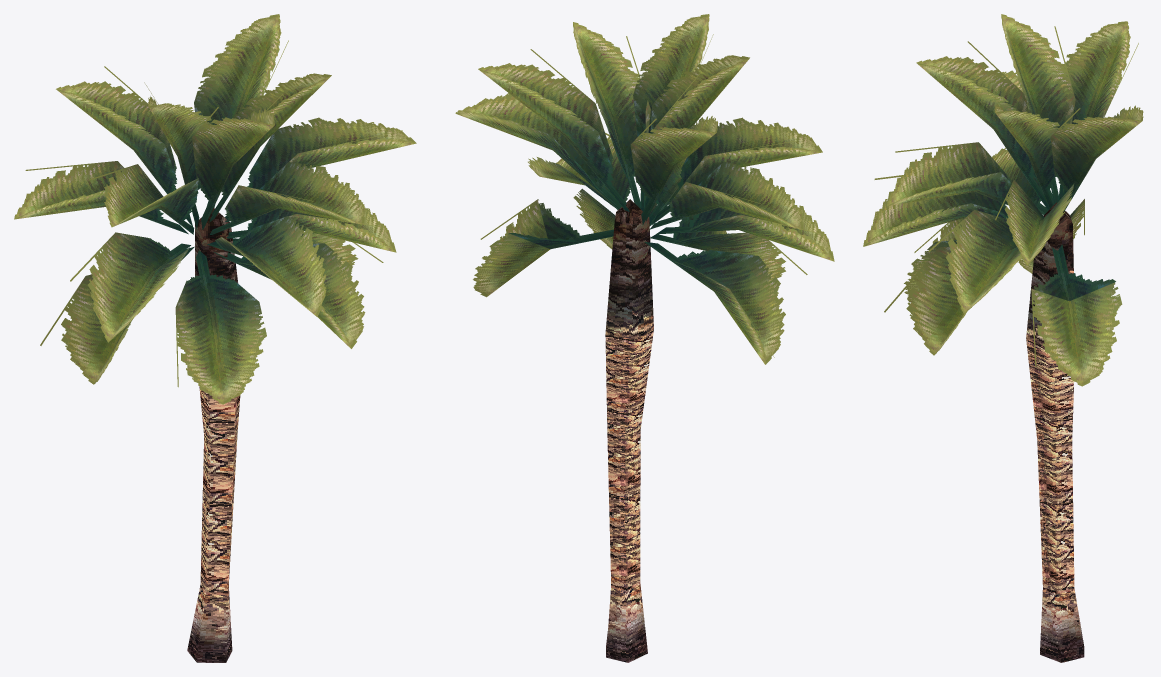
The model's file is stage-beac-p2-92.glb.
The picture shows the model from 3 angles, left to right: view 1: azimuth 30°, elevation 25°; view 2: azimuth 150°, elevation 25°; view 3: azimuth 270°, elevation 25°; orthographic projection.
Size of the model in its own units: 6.37 by 9.64 by 4.18.
3 materials, 3 textured.
